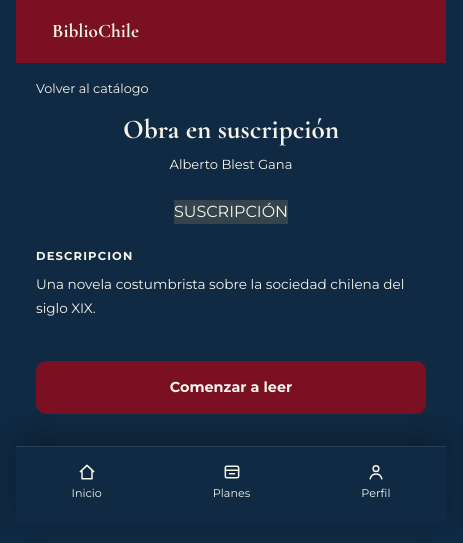
BookDetail › libro de pago › muestra el mensaje del backend si se alcanzó el cupo de arriendos y no navega
Click the button "Comenzar a leer": click(231, 388) left=36, top=361, right=426, bottom=414
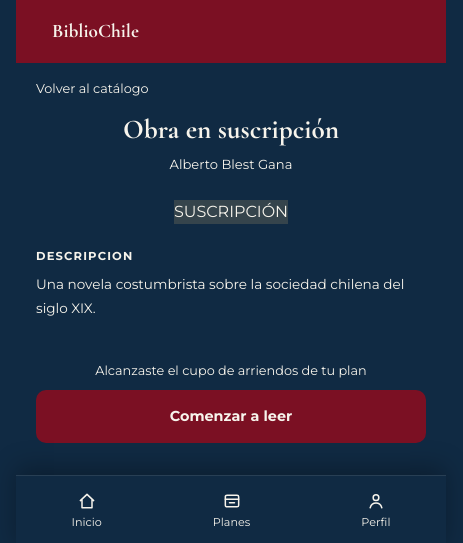
Expected: the text "Alcanzaste el cupo de arriendos de tu plan" is shown, left=95, top=363, right=367, bottom=378
